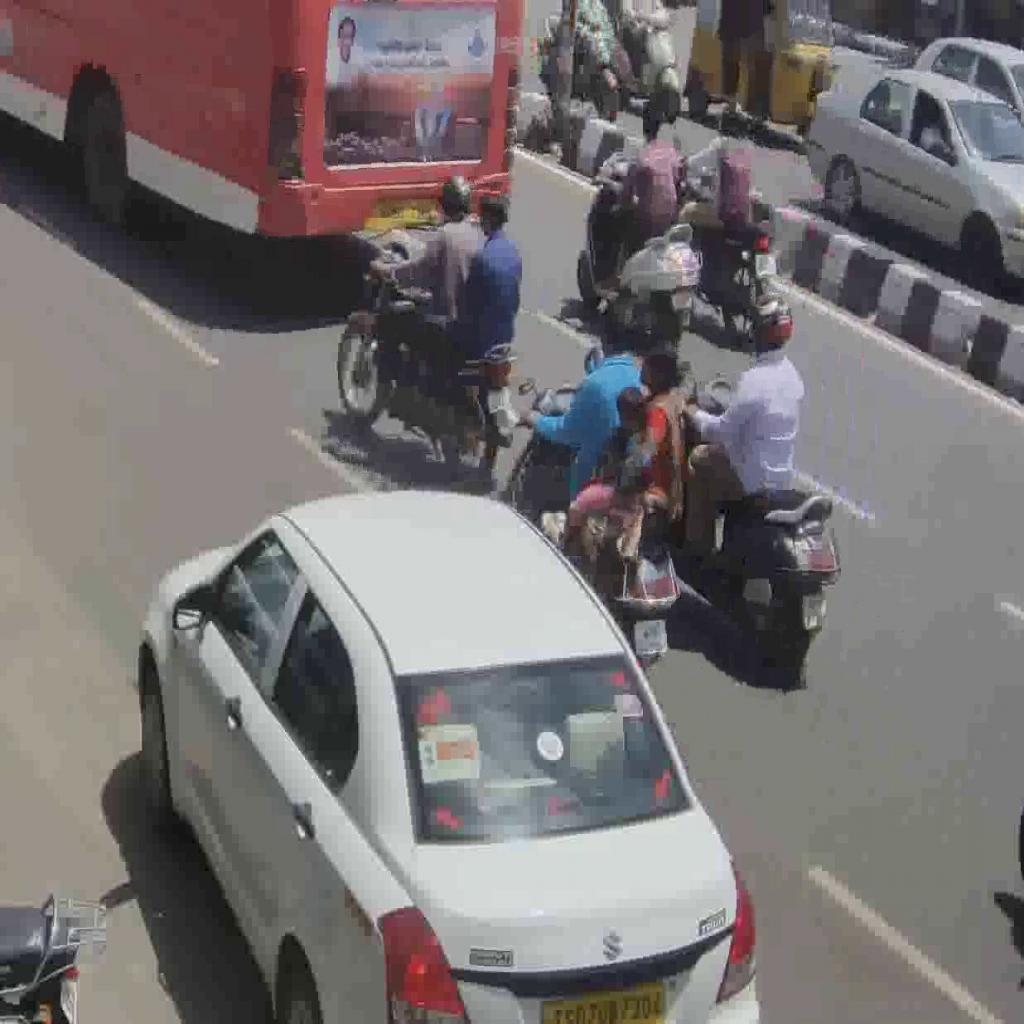helmet: (489, 380, 681, 676), (684, 372, 843, 681), (335, 240, 519, 486), (576, 148, 700, 346), (680, 150, 778, 346)
